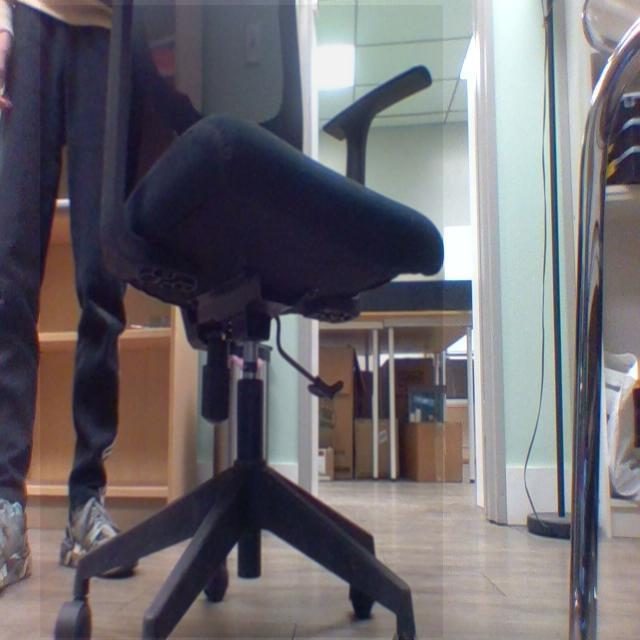chair: (53, 0, 447, 640)
